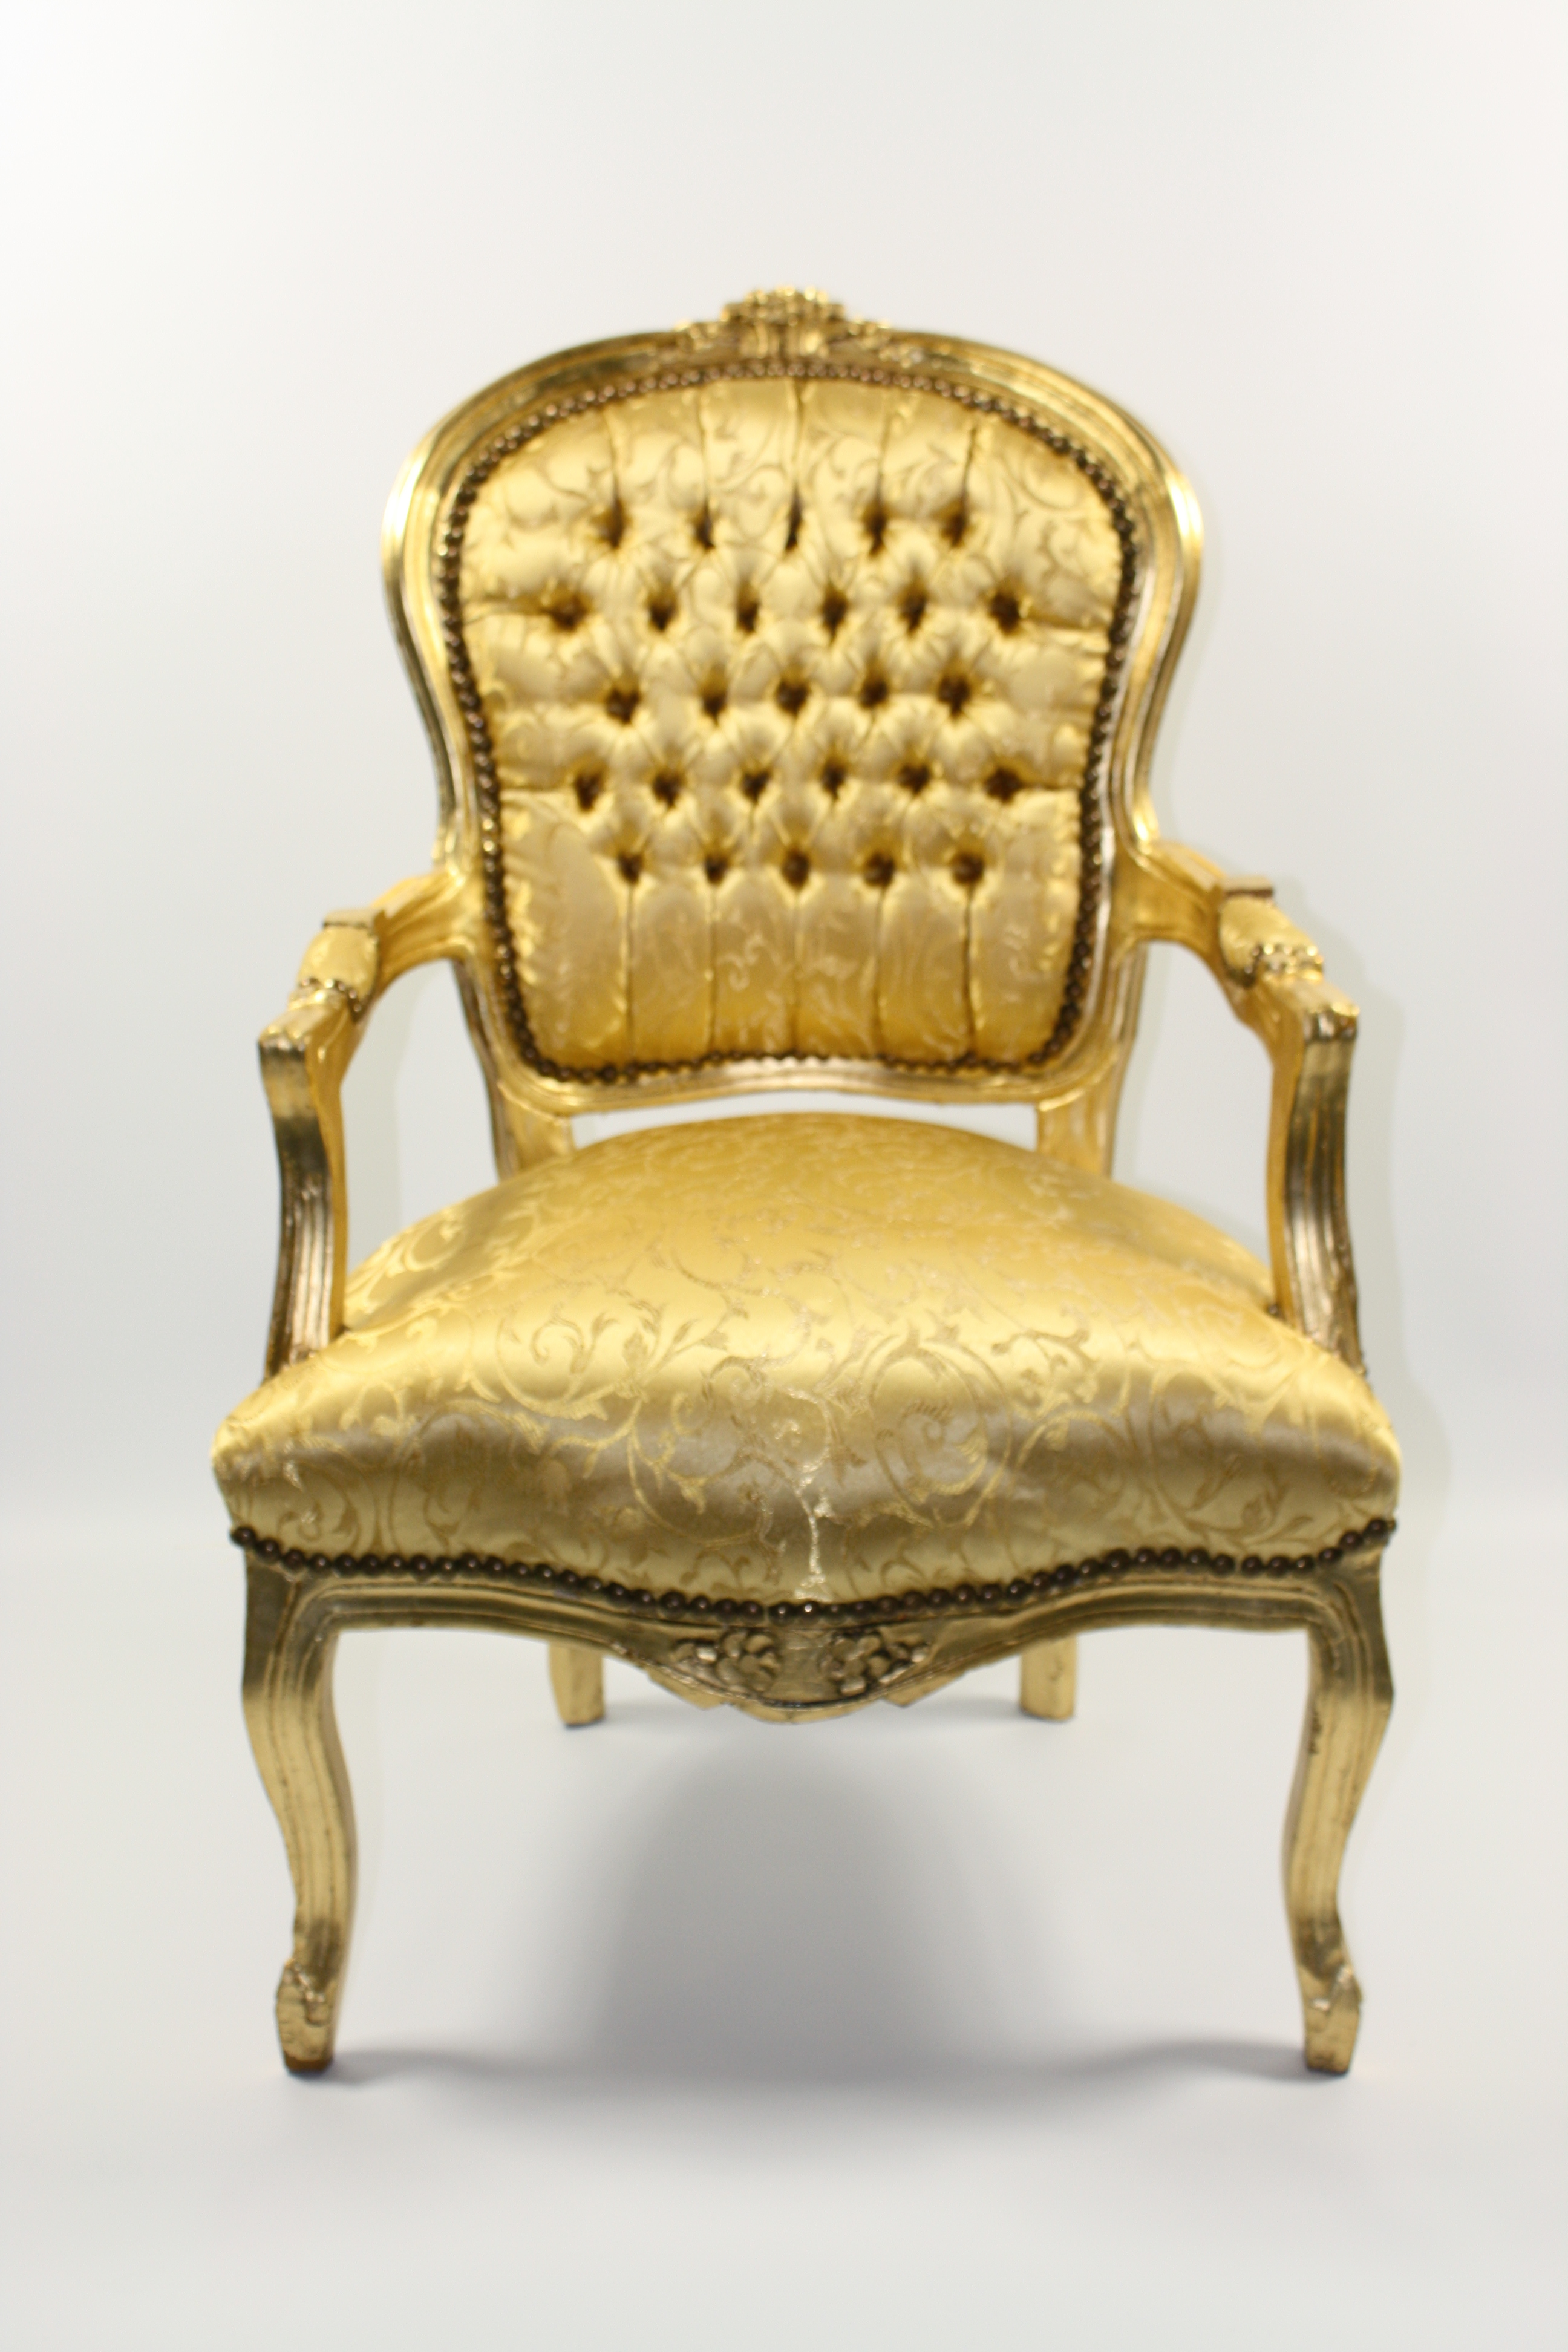chairs: (165, 296, 1477, 2140)
